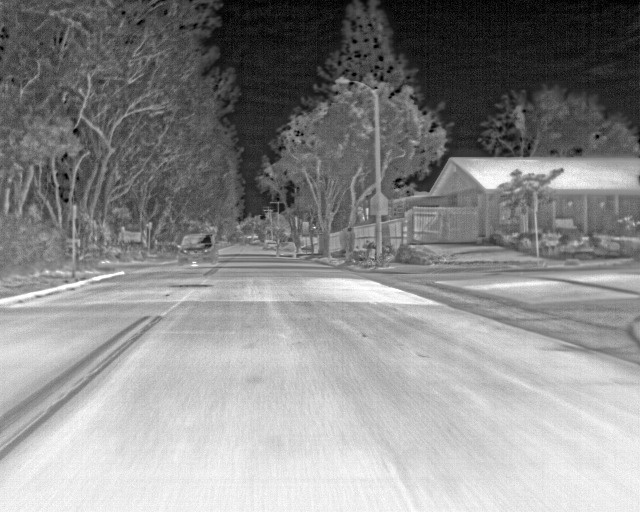vehicle: (179, 233, 215, 261)
